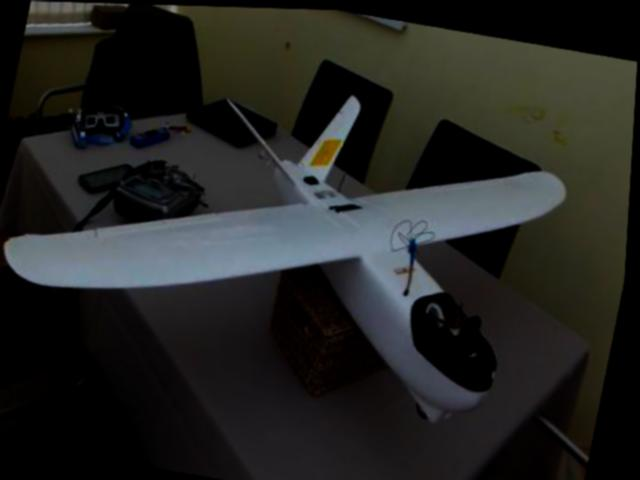uav: (0, 40, 589, 439)
